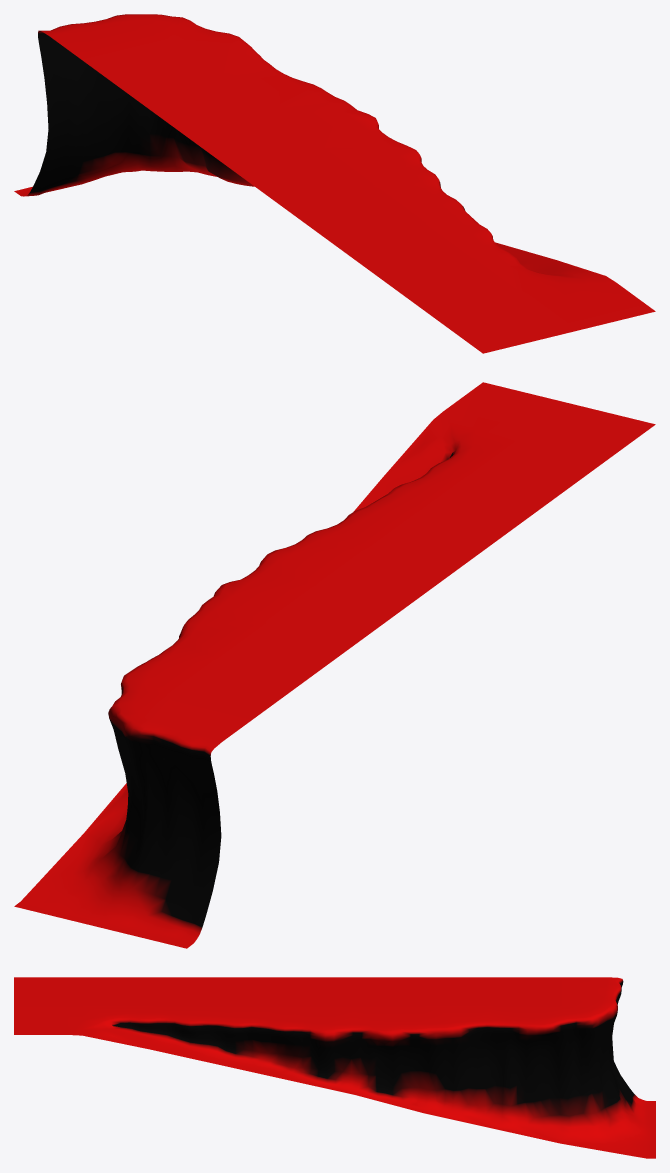
File: ClimbCliff01D 2M Background.fbx
3 renders of one model, top to bottom at view 1: azimuth 30°, elevation 25°; view 2: azimuth 150°, elevation 25°; view 3: azimuth 270°, elevation 25°, orthographic. The views are drawn at different scales.
Visible parts, largest first — view 1: ClimbCliff01D 2M Background; view 2: ClimbCliff01D 2M Background; view 3: ClimbCliff01D 2M Background.
Part boxes in pixels (box(x1,y1,x2,y2)): ClimbCliff01D 2M Background: box(14, 14, 655, 353); ClimbCliff01D 2M Background: box(14, 382, 655, 948); ClimbCliff01D 2M Background: box(14, 977, 655, 1158).
Size of the model in its own units: 2 by 2 by 9.4.
